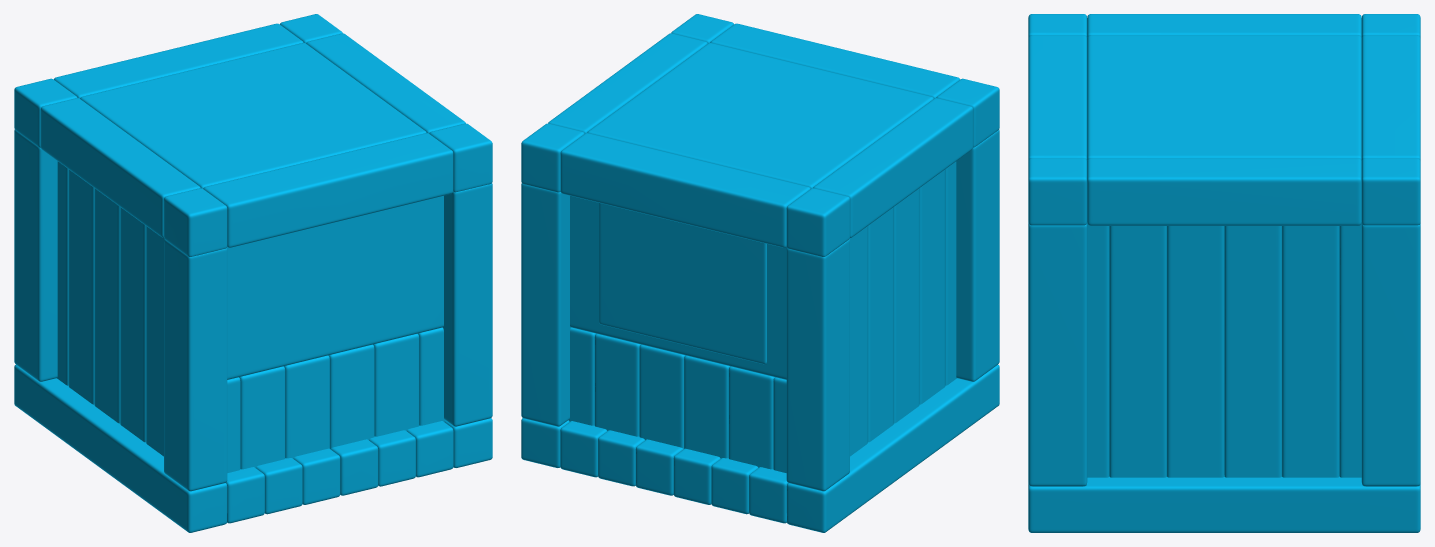
The model's file is SM_Wood_Body_01.fbx.
The picture shows the model from 3 angles, left to right: view 1: azimuth 30°, elevation 25°; view 2: azimuth 150°, elevation 25°; view 3: azimuth 270°, elevation 25°; orthographic projection. The views are drawn at different scales.
Visible parts, largest first — view 1: SM_Wood_Body_01; view 2: SM_Wood_Body_01; view 3: SM_Wood_Body_01.
Part boxes in pixels (left/top/right/bottom): SM_Wood_Body_01: left=14, top=14, right=492, bottom=532; SM_Wood_Body_01: left=521, top=14, right=999, bottom=532; SM_Wood_Body_01: left=1028, top=14, right=1420, bottom=532.
Bounding box in the file's own units: 2.5 × 2.5 × 2.5.
